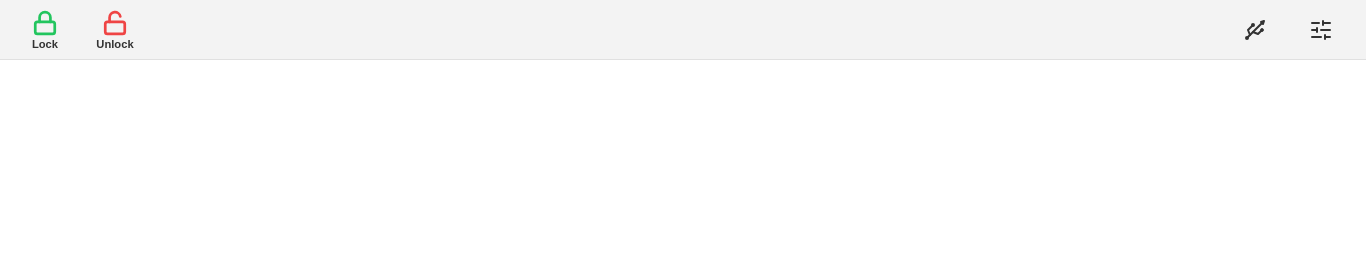
it: Toolbar - advanced menu › is closed until the gear is clicked, and toggles
Check: the text "Paranoid Mode" is not shown
Click the 4th button with class "tool-btn" at x=1321, y=30, box [1291, 4, 1351, 54]
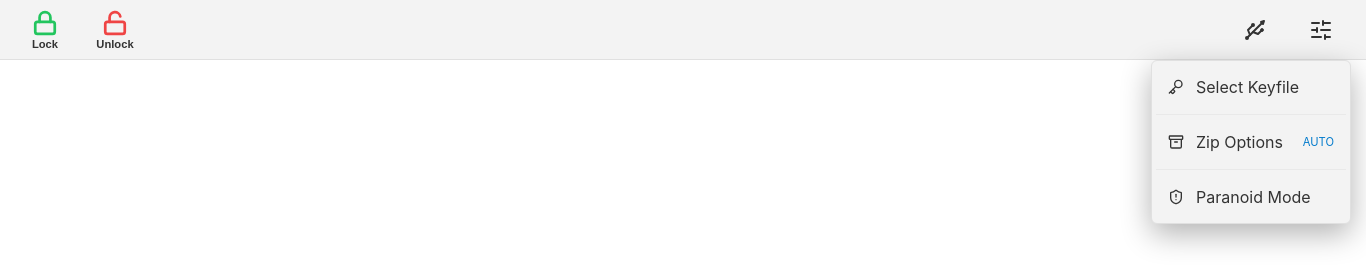
Check: the text "Paranoid Mode" is shown, box [1196, 186, 1311, 206]
Click the 4th button with class "tool-btn" at x=1321, y=30, box [1291, 4, 1351, 54]
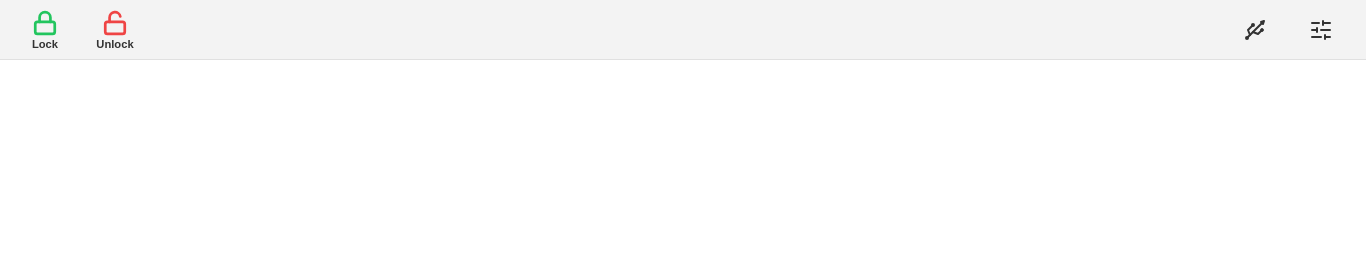
Check: the text "Paranoid Mode" is gone
